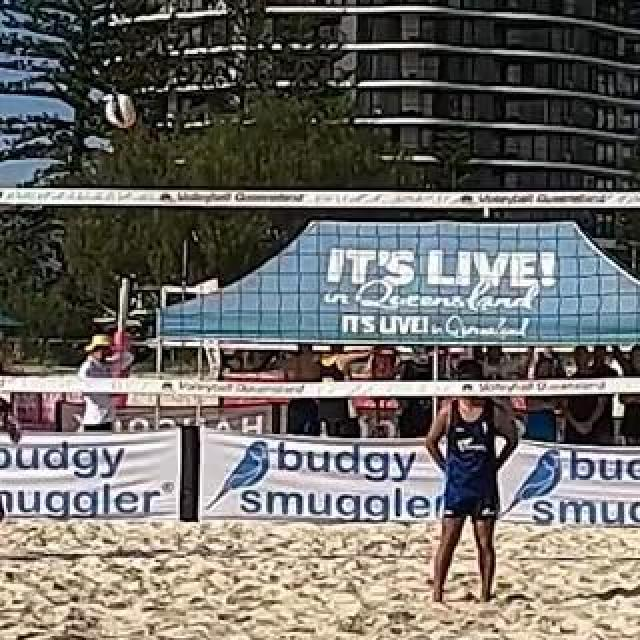volleyball: (106, 94, 138, 126)
